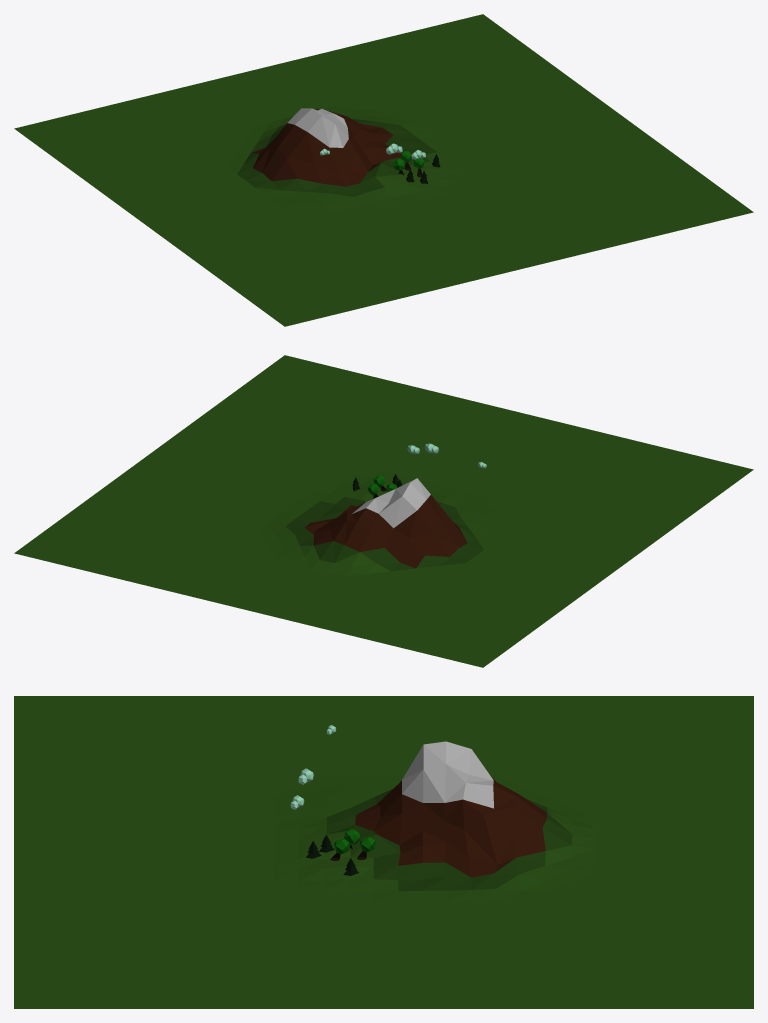
Rendered from lowpoly.obj.
The picture shows the model from 3 angles, top to bottom: view 1: azimuth 30°, elevation 25°; view 2: azimuth 150°, elevation 25°; view 3: azimuth 270°, elevation 25°; orthographic projection. The views are drawn at different scales.
Visible parts, largest first — view 1: Plane.001, Plane; view 2: Plane.001, Plane; view 3: Plane.001, Plane.
Part boxes in pixels (left/top/right/bottom): Plane.001: left=14, top=14, right=753, bottom=326; Plane: left=145, top=91, right=541, bottom=259; Plane.001: left=14, top=355, right=753, bottom=667; Plane: left=215, top=440, right=612, bottom=607; Plane.001: left=14, top=696, right=753, bottom=1008; Plane: left=199, top=741, right=597, bottom=912.
Size of the model in its own units: 7.86 by 0.9183 by 7.86.
